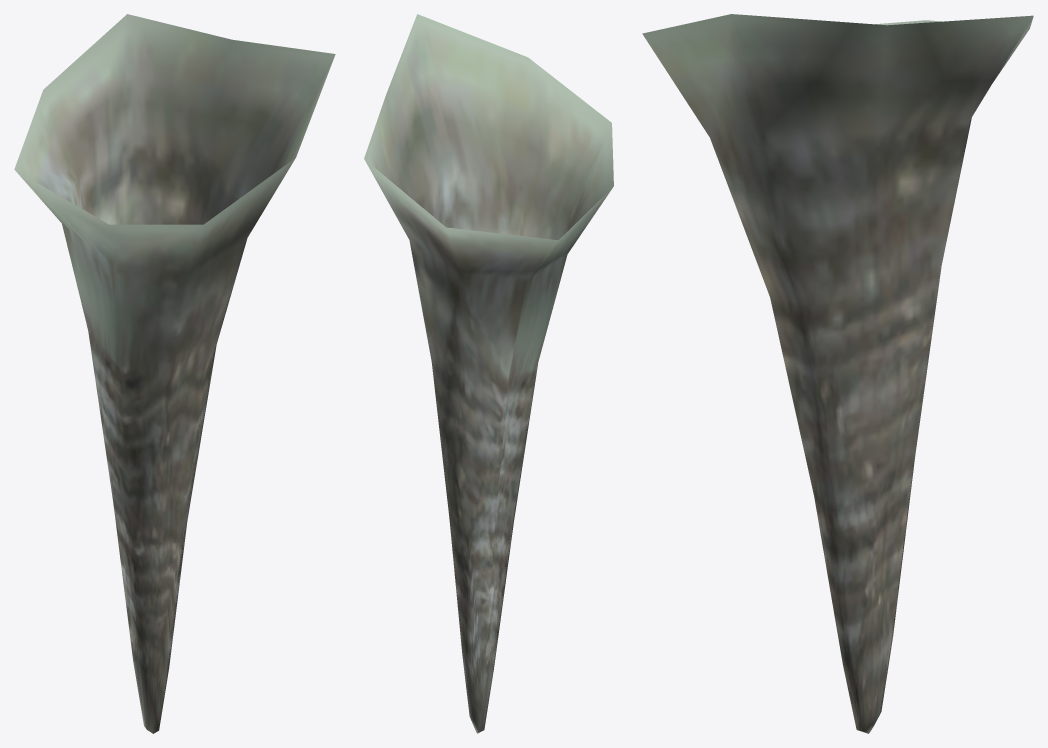
The model's file is TROLLHOLE02_PS-MAINSTALAG21.fbx.
3 renders of one model, left to right at view 1: azimuth 30°, elevation 25°; view 2: azimuth 150°, elevation 25°; view 3: azimuth 270°, elevation 25°, orthographic. The views are drawn at different scales.
Parts seen in each view (by area): view 1: TROLLHOLE02_PS-MAINSTALAG21; view 2: TROLLHOLE02_PS-MAINSTALAG21; view 3: TROLLHOLE02_PS-MAINSTALAG21.
Boxes of the visible parts, box(x1,y1,x2,y2) form: TROLLHOLE02_PS-MAINSTALAG21: box(14, 14, 335, 733); TROLLHOLE02_PS-MAINSTALAG21: box(364, 14, 613, 733); TROLLHOLE02_PS-MAINSTALAG21: box(642, 14, 1033, 733).
Bounding box in the file's own units: 9340 × 26166 × 11774.
1 material, 1 textured.
